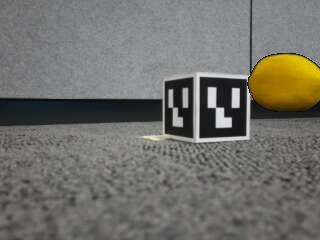lemon: (248, 55, 320, 110)
